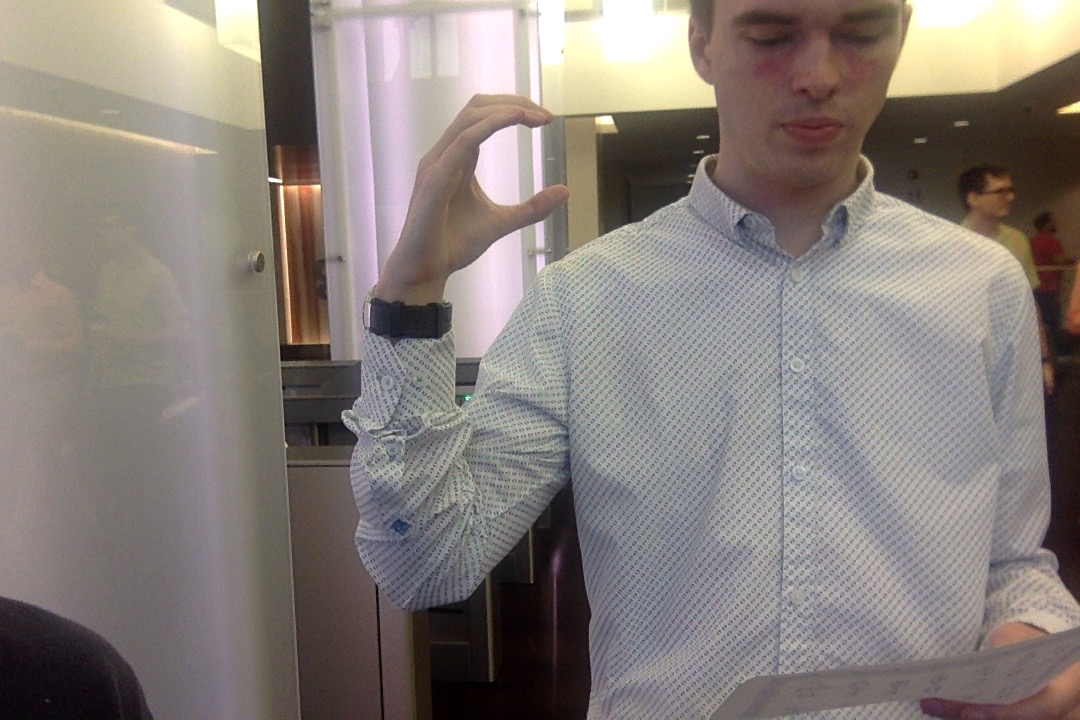c: (388, 85, 577, 285)
